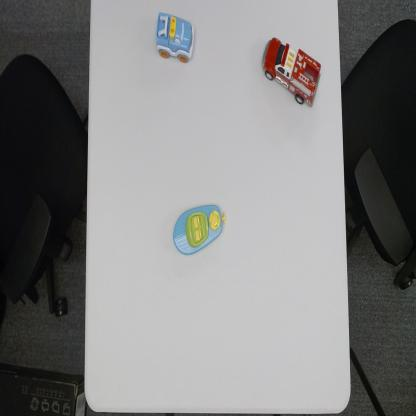Boat: (172, 202, 228, 258)
Car: (154, 8, 196, 65)
Firetruck: (261, 34, 322, 110)
